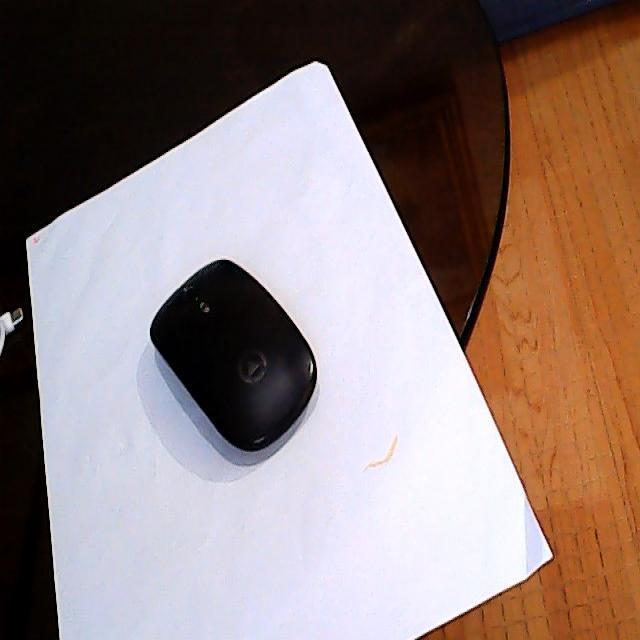Mouse: (148, 254, 322, 455)
